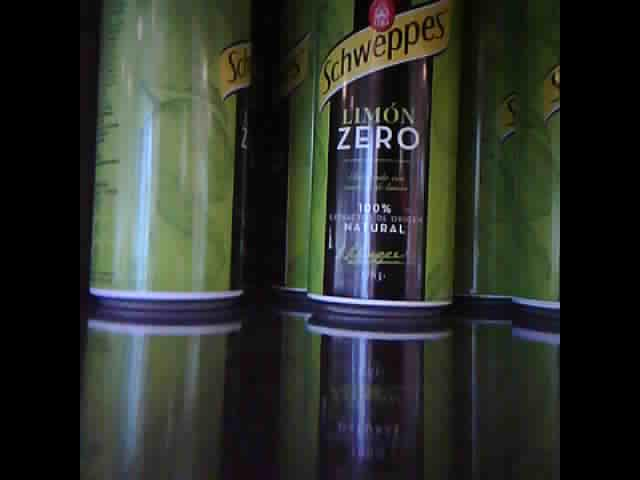schweppes: (88, 4, 262, 306), (305, 1, 456, 312), (510, 1, 560, 317), (469, 1, 517, 308), (278, 1, 314, 298)
